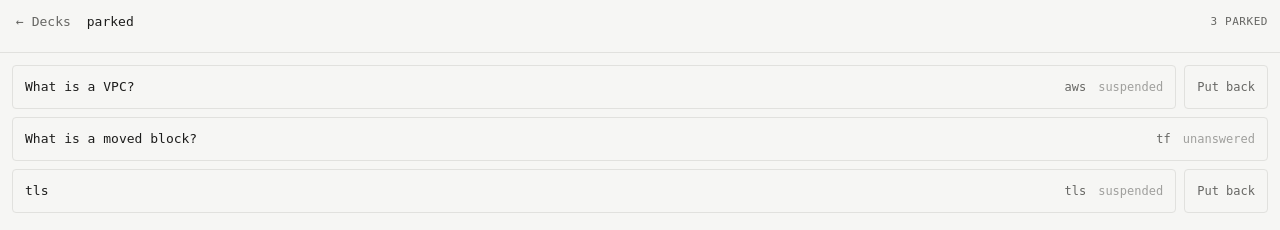
Test: ReviewParked putting a card back › drops the row it put back
The image size is (1280, 230).
Expected: the text "What is a VPC?" is shown, left=25, top=79, right=135, bottom=94
Click the 1st button "Put back" at (1226, 87), box left=1184, top=65, right=1268, bottom=109
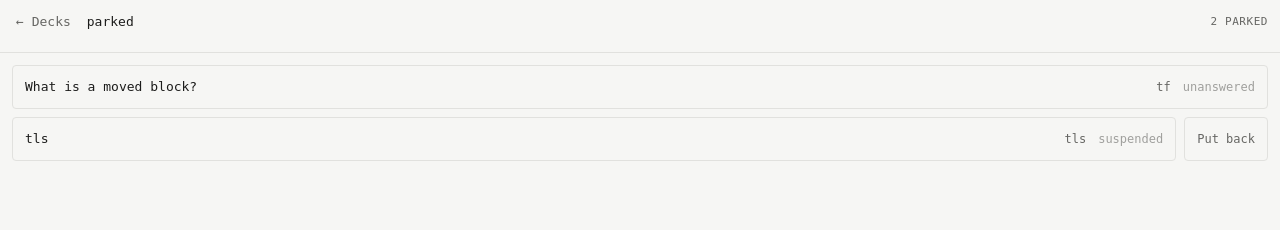
Expected: the button "What is a VPC?" is gone
